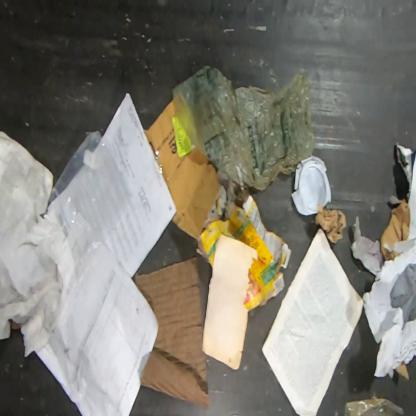cardboard: (198, 186, 291, 314), (134, 257, 209, 406), (144, 98, 221, 240), (380, 198, 410, 262), (315, 205, 346, 244)
rigid_plastic: (291, 155, 332, 216)
soft_plastic: (172, 64, 315, 192), (50, 130, 135, 284), (344, 399, 405, 416)
